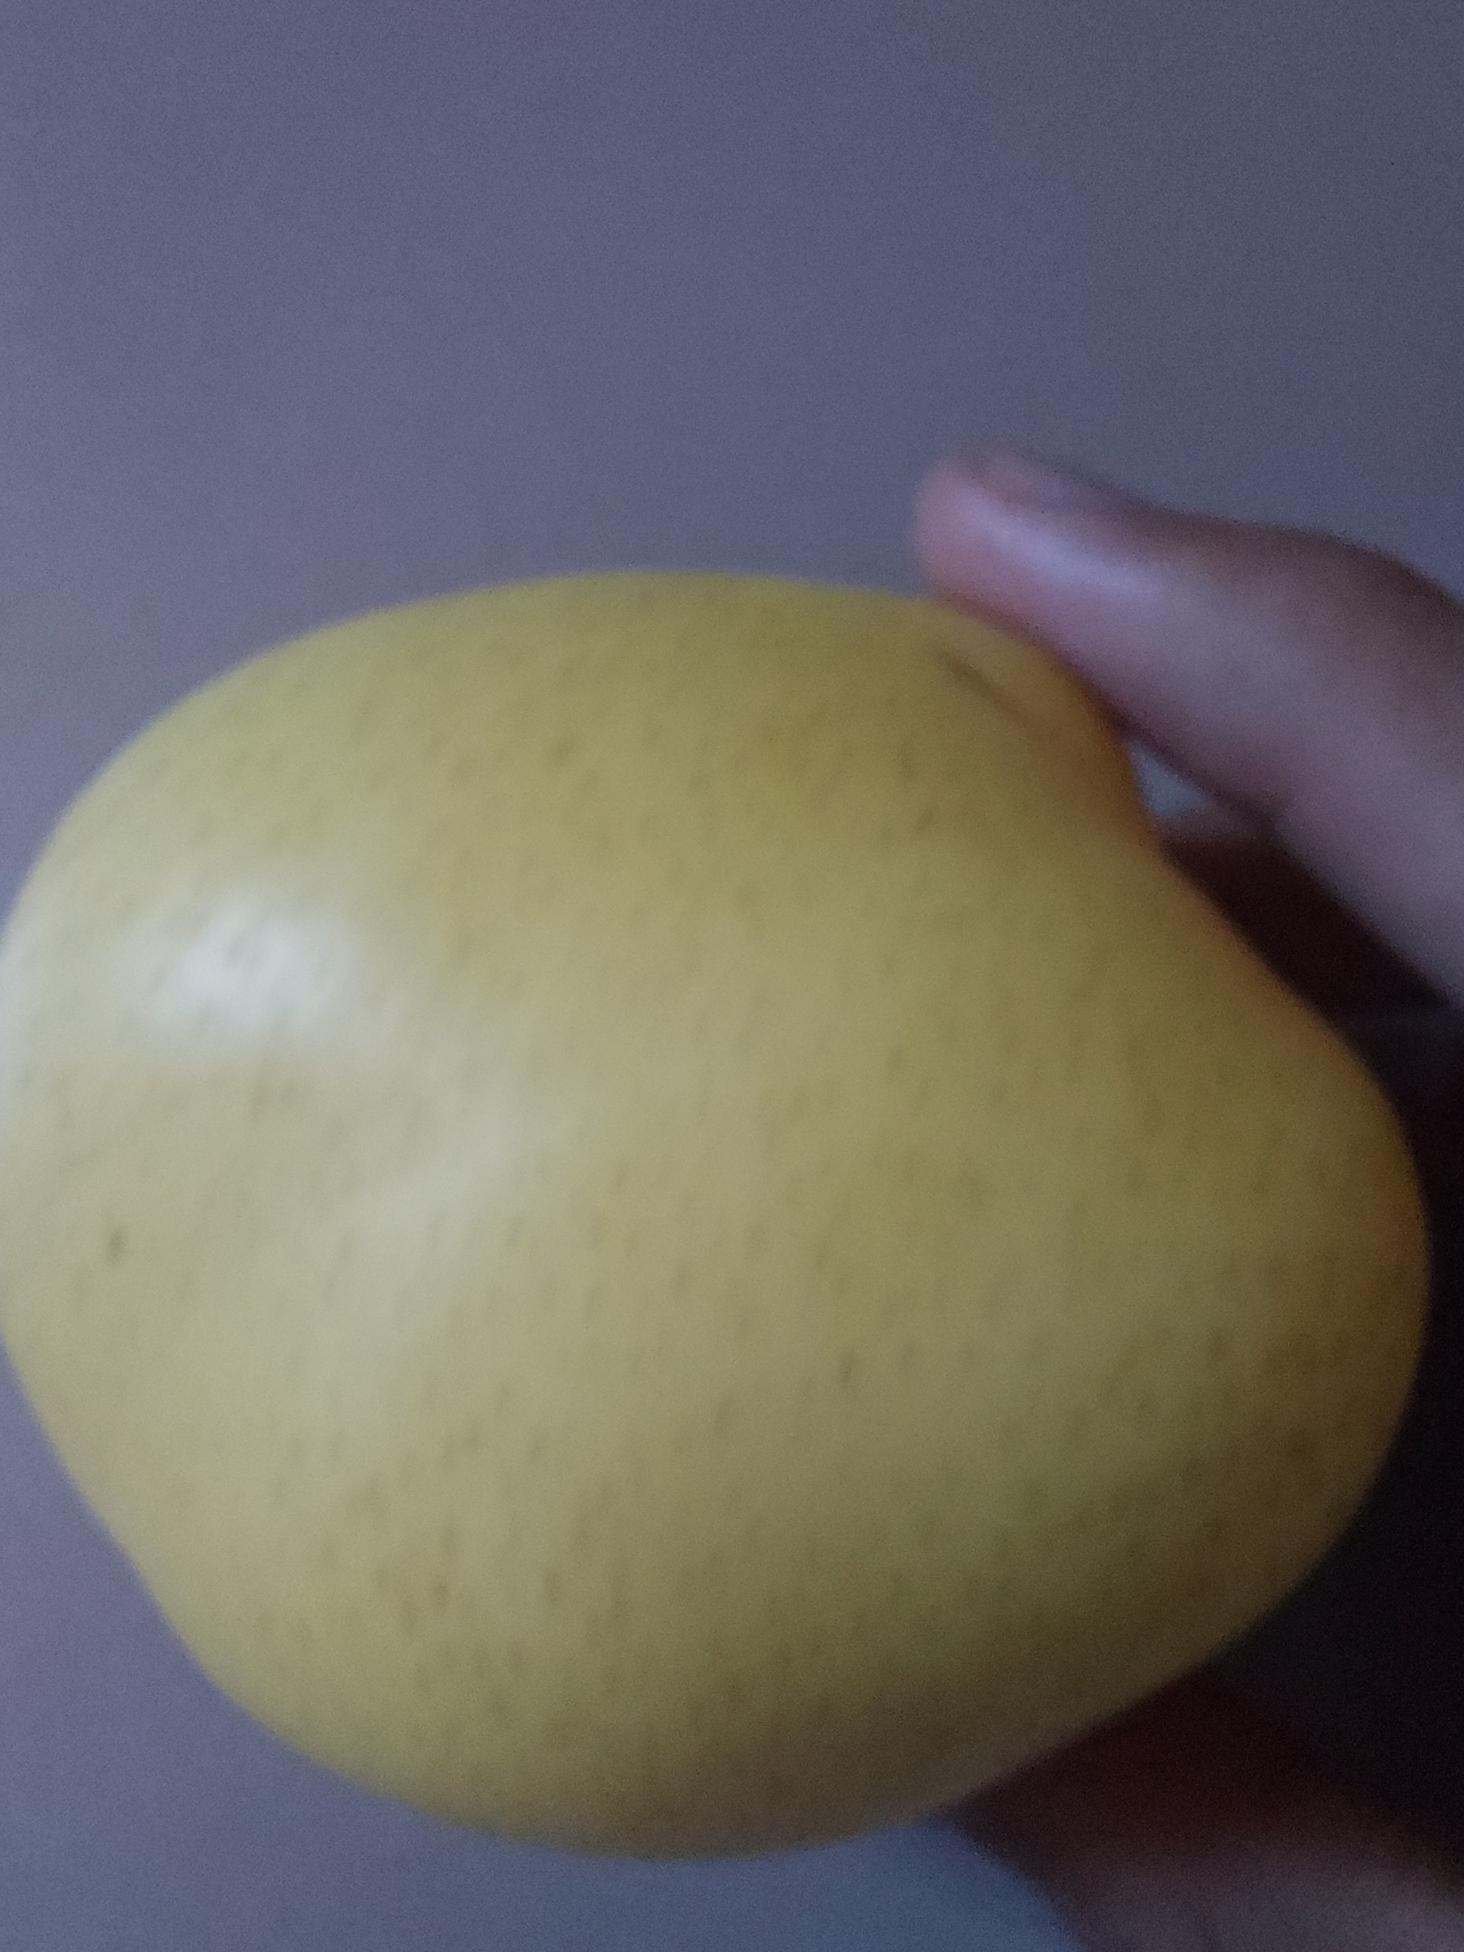Good Pear: (0, 563, 1430, 1855)
